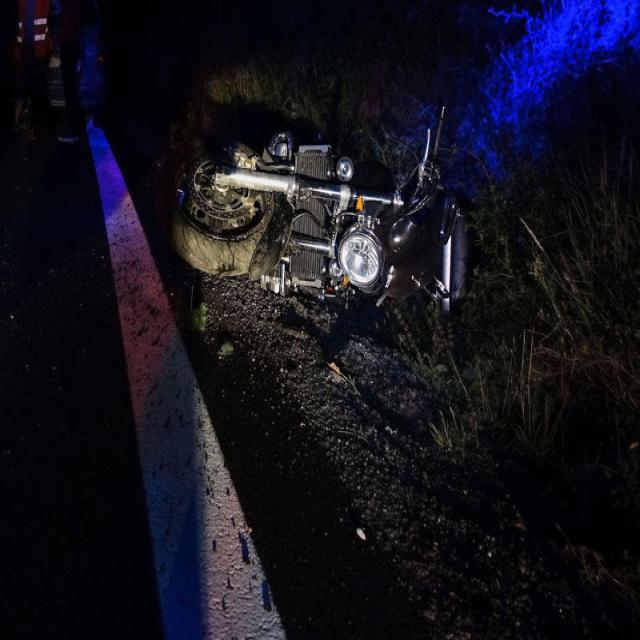Accident: (156, 102, 481, 360)
